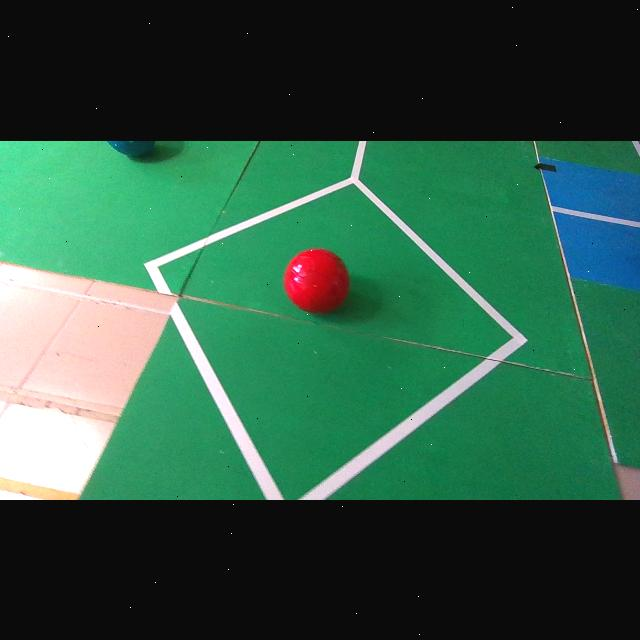B: (106, 140, 155, 156)
R: (285, 249, 349, 312)
